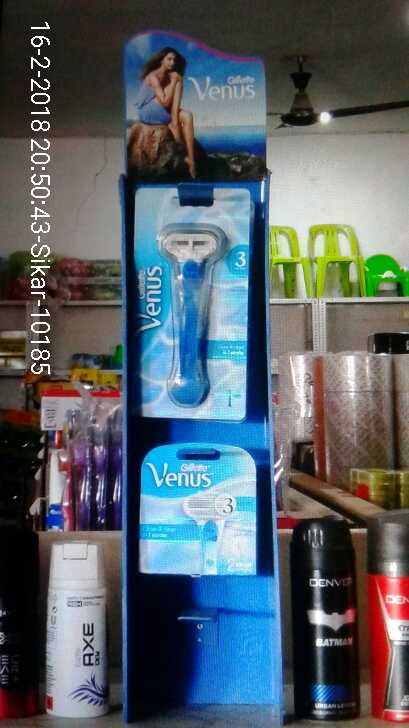venus: (121, 190, 248, 421), (141, 440, 256, 585)
